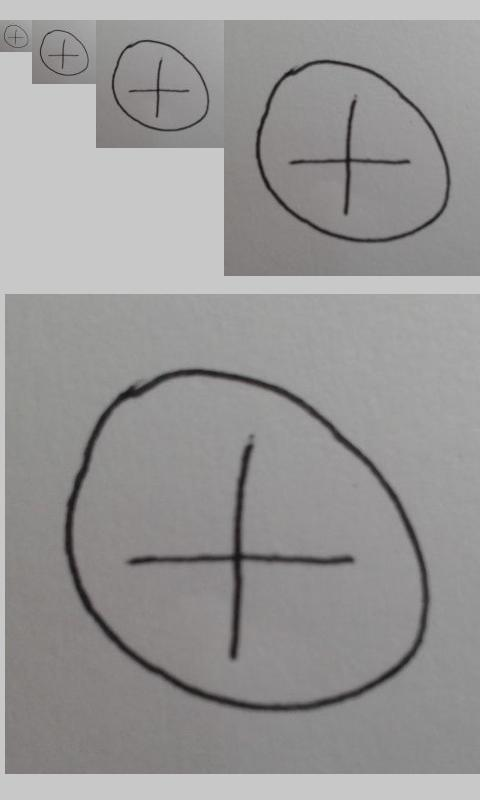button: (64, 367, 431, 714), (255, 58, 451, 244), (111, 39, 210, 132), (39, 29, 90, 77), (3, 24, 29, 48)
